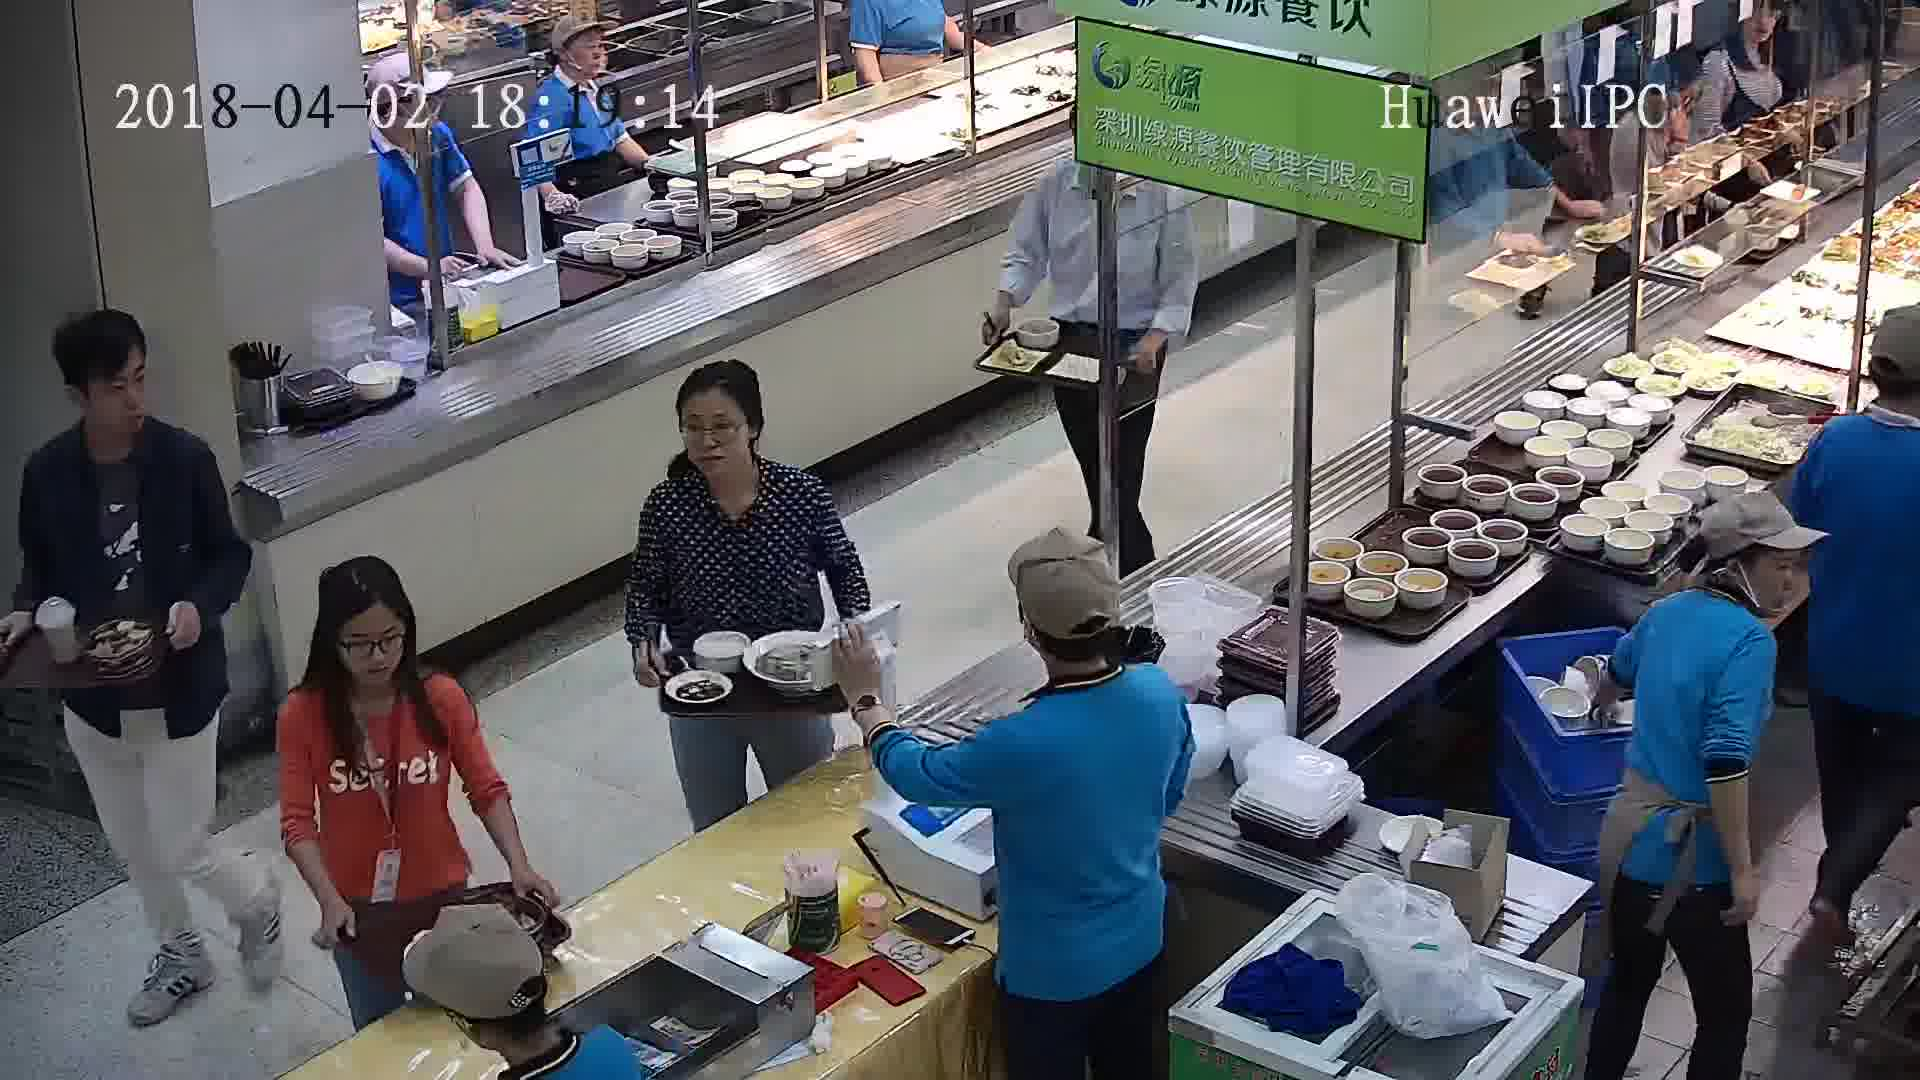face: (670, 388, 759, 477), (73, 347, 161, 435), (331, 604, 412, 685), (560, 27, 613, 80)
person: (968, 536, 1191, 769), (394, 892, 647, 1079), (633, 353, 841, 546), (16, 306, 218, 504), (275, 553, 470, 751), (1630, 489, 1818, 688), (1803, 314, 1918, 484), (369, 49, 458, 180), (532, 20, 619, 116), (1714, 0, 1803, 71)
